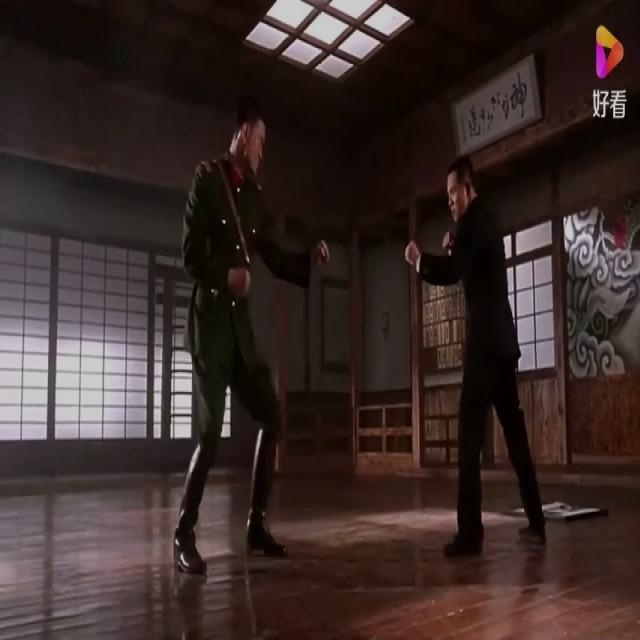fight: (173, 98, 547, 577)
